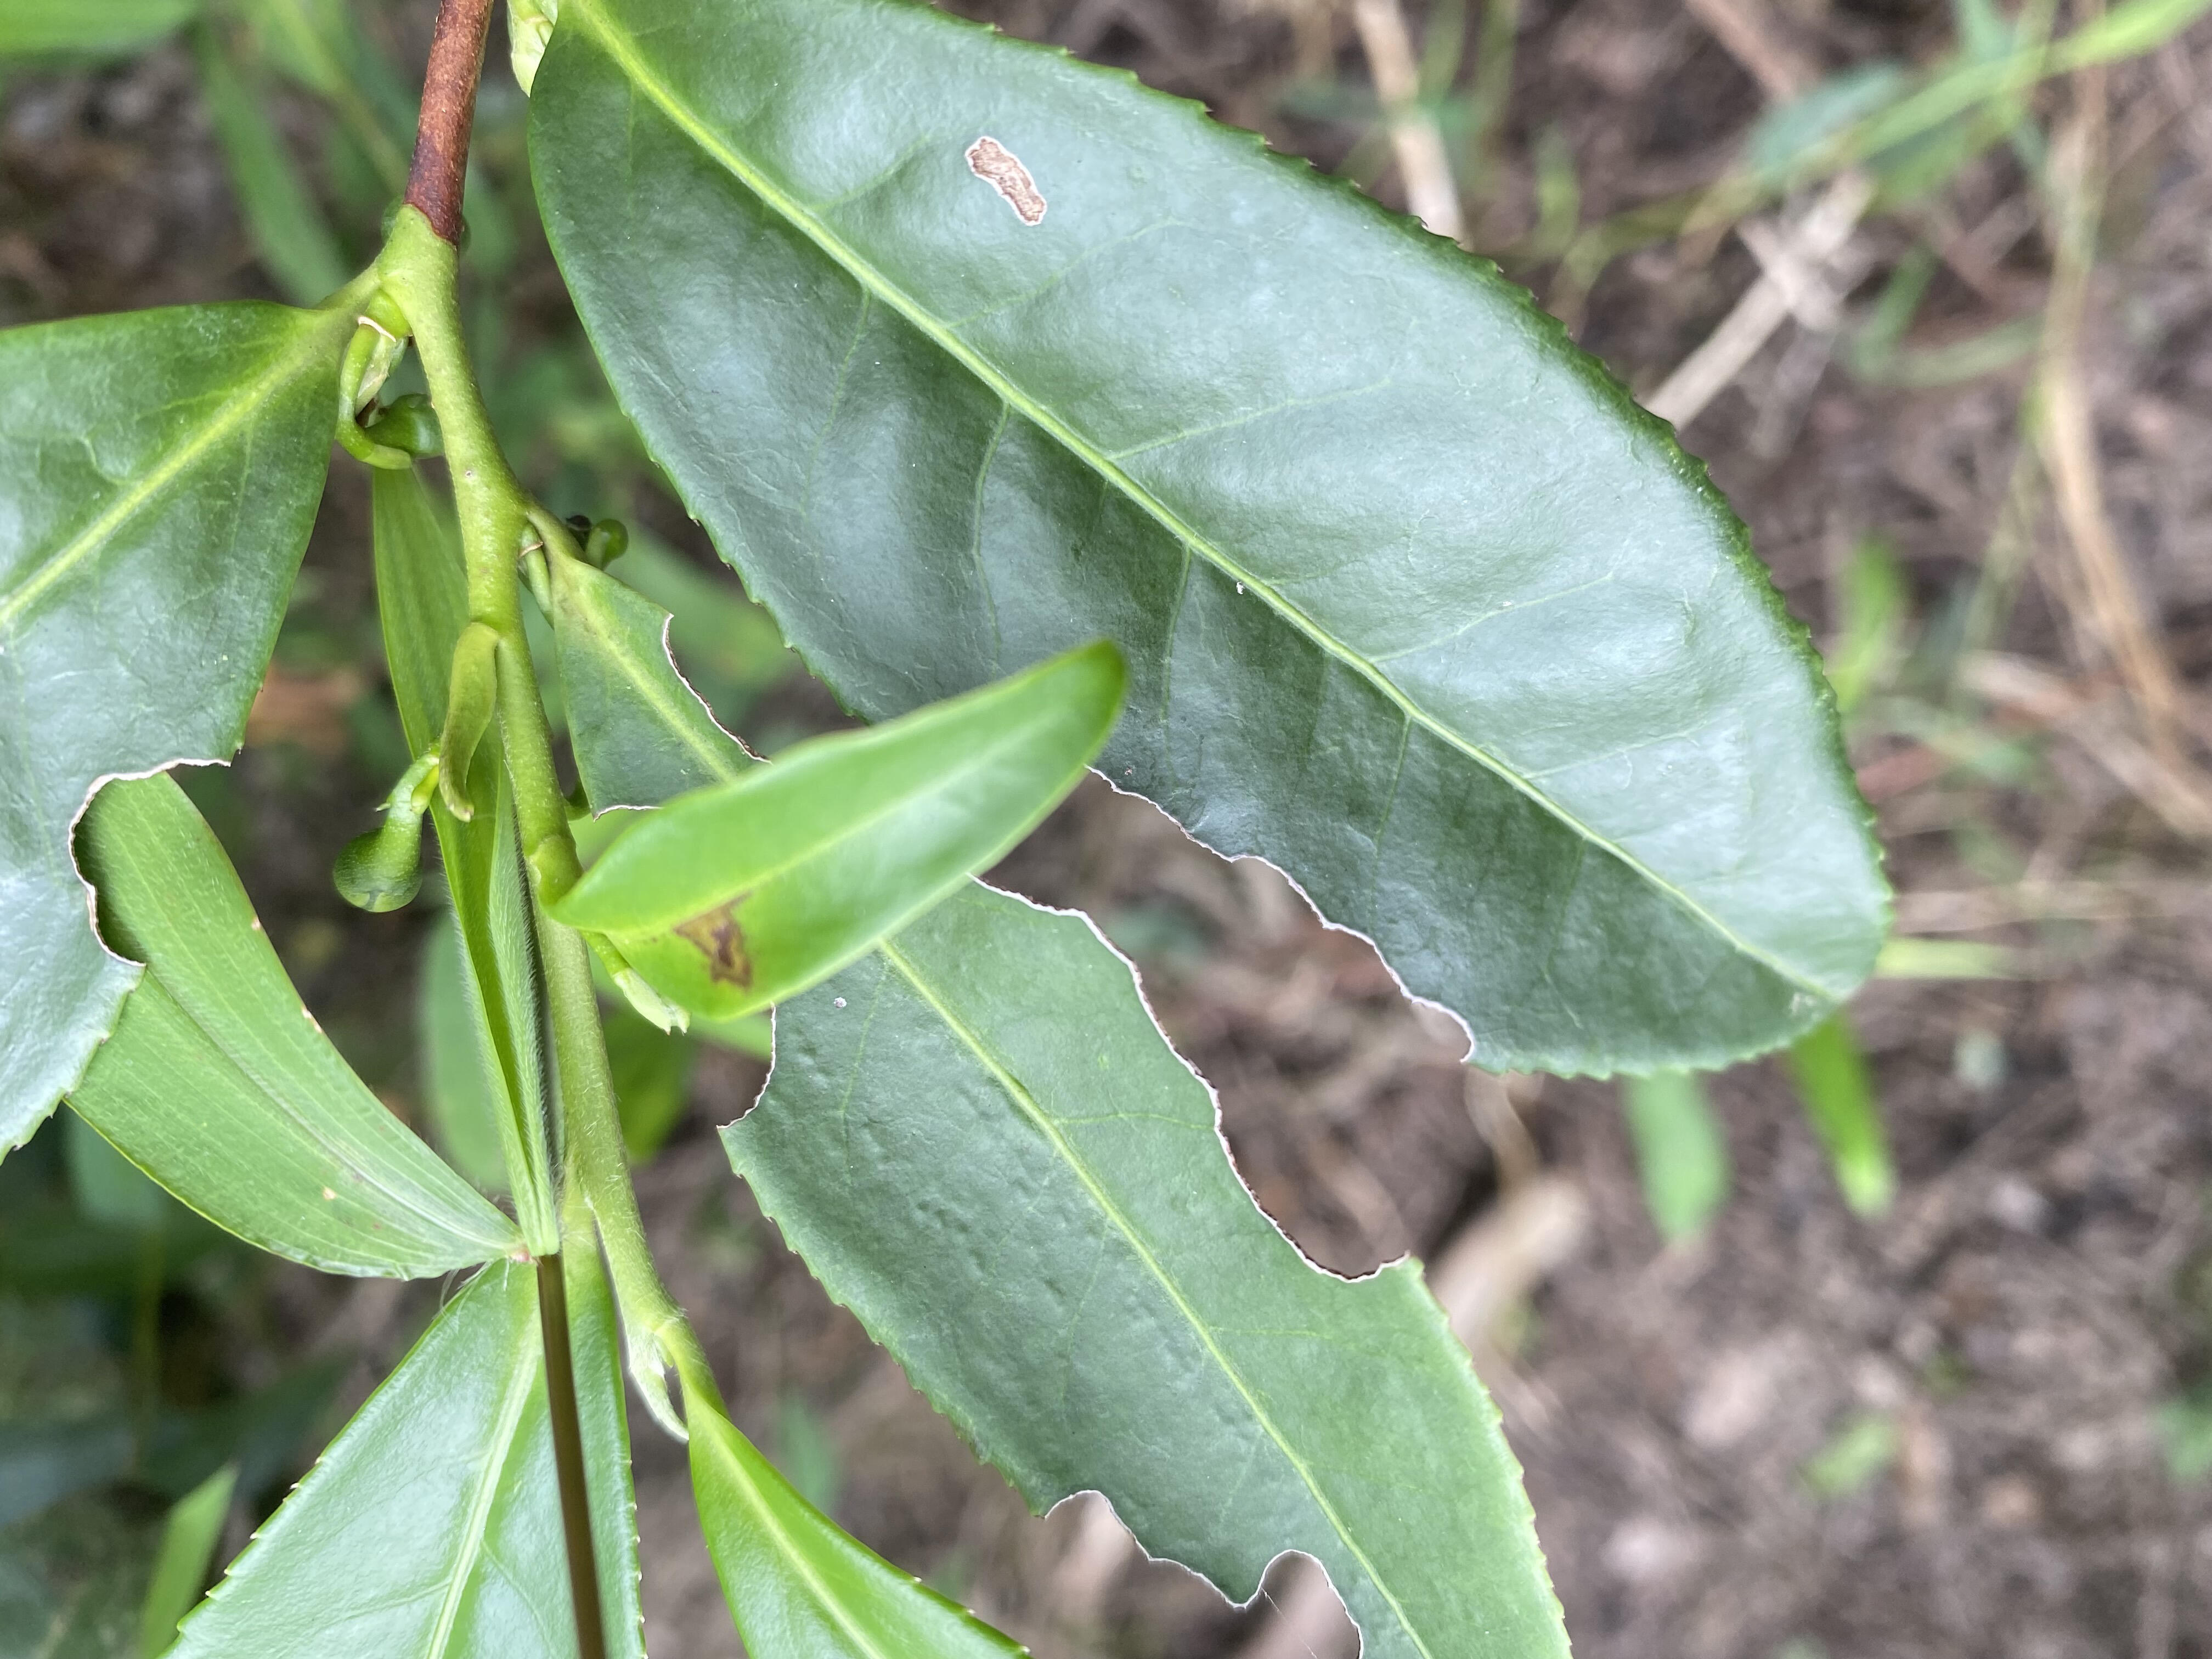chihuo_high: (549, 551, 1578, 1656)
chihuo_low: (3, 298, 345, 1175)
tanju_high: (535, 641, 1134, 1026)
